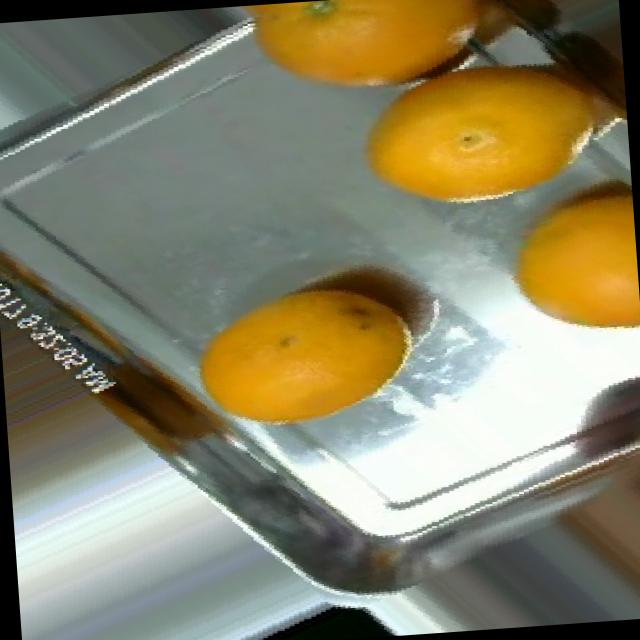Fruit: (210, 583, 424, 640)
